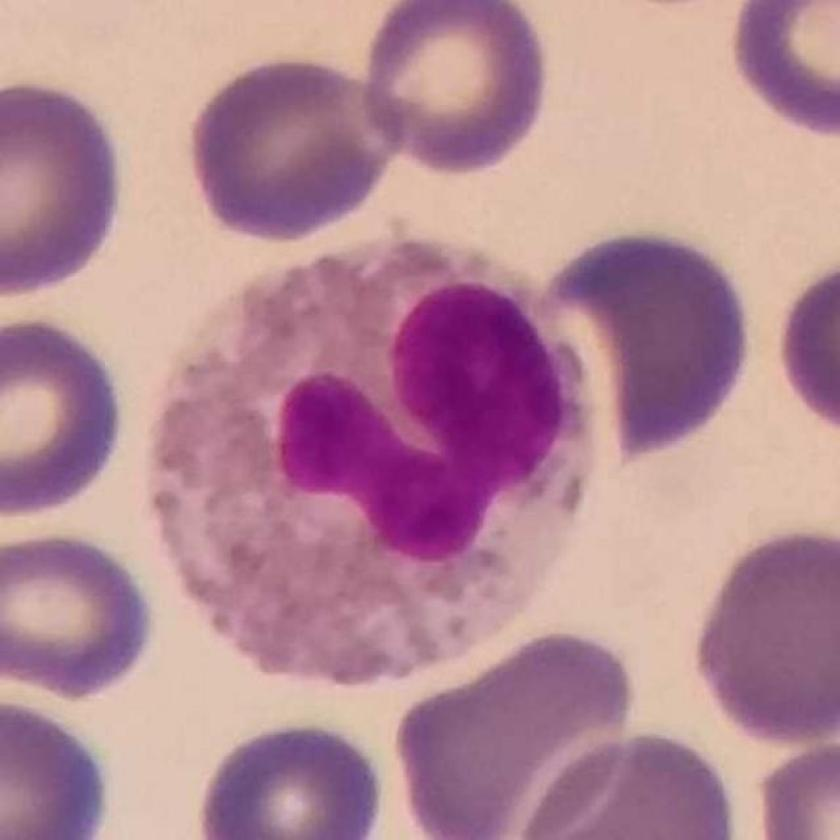eosinophil: (148, 232, 607, 691)
